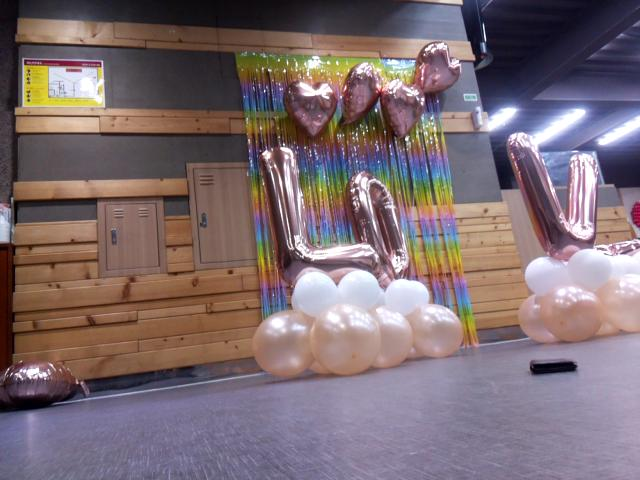wallet: (523, 348, 582, 385)
